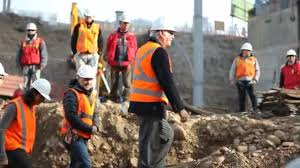helmet: (147, 17, 179, 34), (33, 80, 50, 100), (79, 66, 96, 78), (85, 6, 96, 17), (242, 40, 253, 51), (283, 49, 298, 57), (119, 14, 132, 23), (26, 22, 36, 31)
vest: (128, 46, 179, 104), (61, 91, 96, 138), (3, 101, 36, 148), (16, 40, 40, 64), (233, 56, 257, 80), (79, 23, 99, 51)
